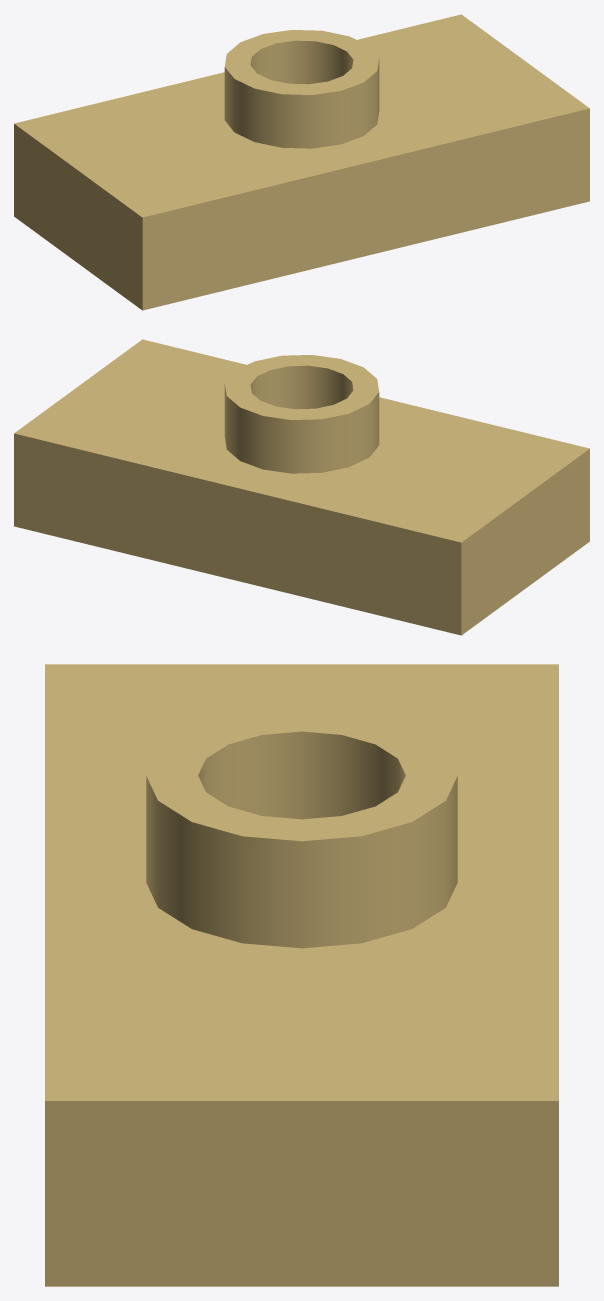
Rendered from Plate_1x2_SingleTop.fbx.
3 views of the same model, one above another, from view 1: azimuth 30°, elevation 25°; view 2: azimuth 150°, elevation 25°; view 3: azimuth 270°, elevation 25° (orthographic). The views are drawn at different scales.
Visible parts, largest first — view 1: Plate_1x2_SingleTop; view 2: Plate_1x2_SingleTop; view 3: Plate_1x2_SingleTop.
Part boxes in pixels (box(x1,y1,x2,y2)): Plate_1x2_SingleTop: box(14, 14, 589, 310); Plate_1x2_SingleTop: box(14, 339, 589, 635); Plate_1x2_SingleTop: box(45, 664, 558, 1286).
Bounding box in the file's own units: 7.92 × 15.92 × 4.98.
